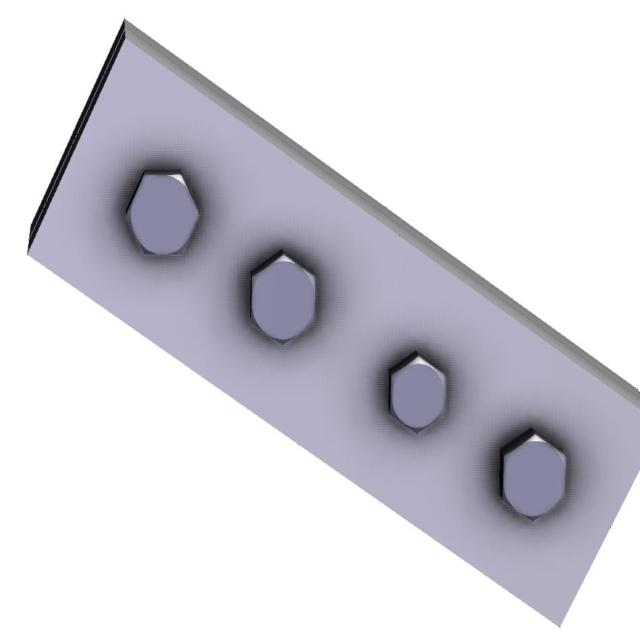bolt head: (124, 166, 201, 260), (248, 248, 318, 346), (500, 427, 568, 522), (387, 351, 446, 434)
